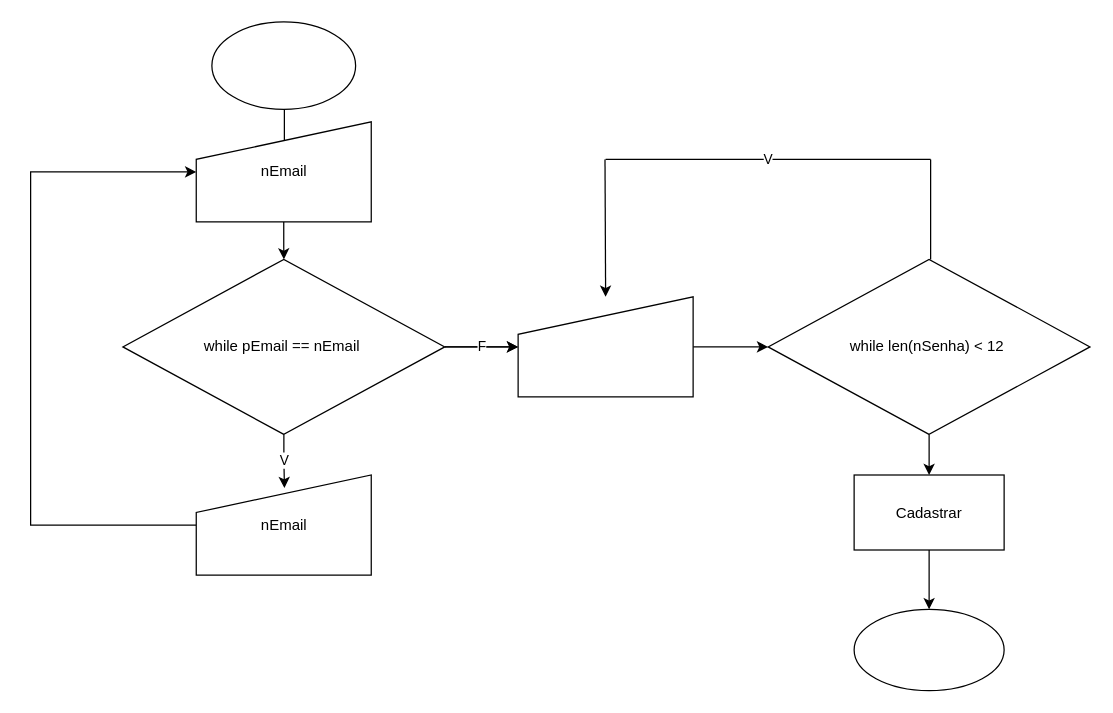
This 1113x713 diagram has some shape labels left out. The box of each missing label's shape, as (x1, y1, x2, y2) in pixels:
Fim: (853, 608, 1004, 691)
Início: (211, 21, 356, 109)
nSenha: (517, 296, 693, 397)
